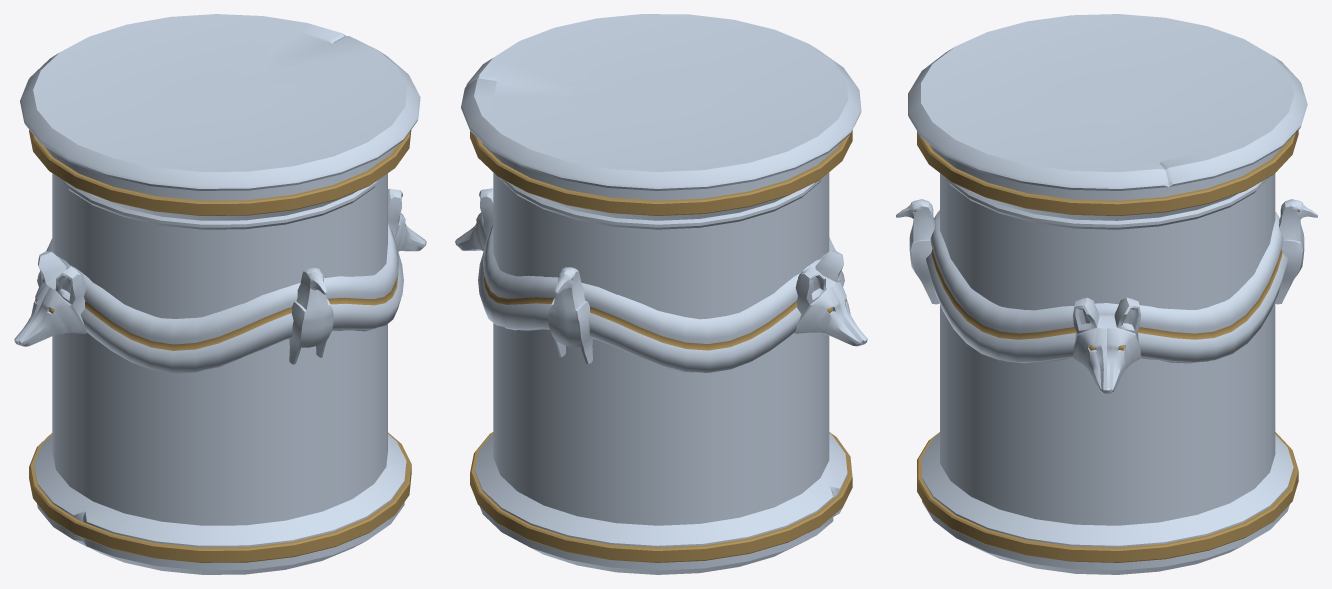
Rendered from Stand.fbx.
3 renders of one model, left to right at view 1: azimuth 30°, elevation 25°; view 2: azimuth 150°, elevation 25°; view 3: azimuth 270°, elevation 25°, orthographic.
Visible parts, largest first — view 1: Cylinder, Torus, Cylinder.001, Cube, Cube.001; view 2: Cylinder, Torus, Cylinder.001, Cube, Cube.001; view 3: Cylinder, Torus, Cylinder.001, Cube, Cube.001.
Boxes of the visible parts, left/top/right/bottom form: Cylinder: left=20, top=14, right=420, bottom=574; Torus: left=37, top=224, right=403, bottom=373; Cylinder.001: left=29, top=130, right=411, bottom=562; Cube: left=14, top=188, right=426, bottom=346; Cube.001: left=289, top=267, right=333, bottom=364; Cylinder: left=461, top=14, right=861, bottom=574; Torus: left=478, top=225, right=844, bottom=372; Cylinder.001: left=470, top=130, right=852, bottom=562; Cube: left=455, top=188, right=867, bottom=346; Cube.001: left=548, top=267, right=592, bottom=363; Cylinder: left=908, top=14, right=1307, bottom=574; Torus: left=926, top=210, right=1287, bottom=363; Cylinder.001: left=917, top=130, right=1298, bottom=562; Cube: left=1072, top=297, right=1141, bottom=394; Cube.001: left=896, top=199, right=1317, bottom=304.
Size of the model in its own units: 282 by 270 by 251.
